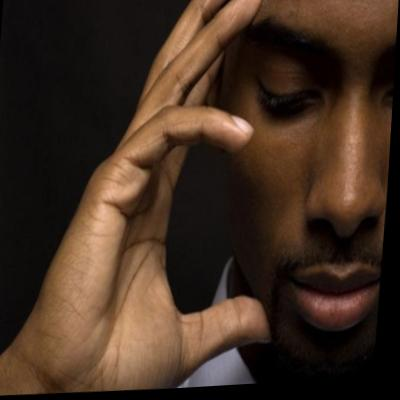sad: (205, 0, 400, 370)
